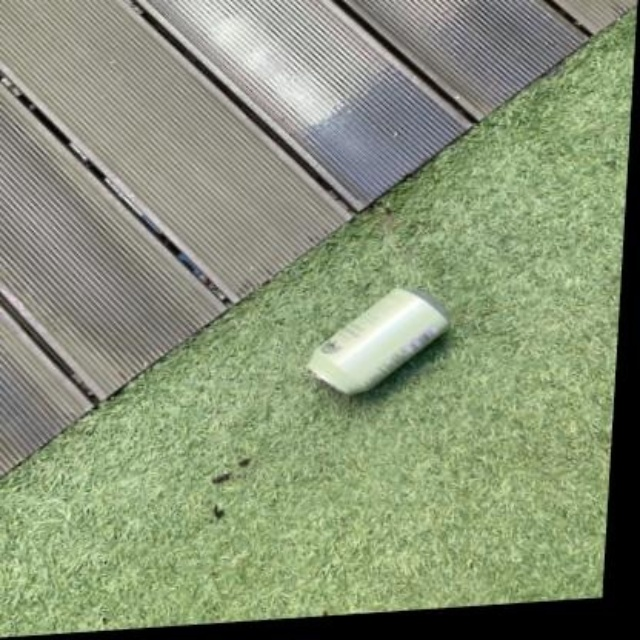trash: (308, 289, 448, 392)
